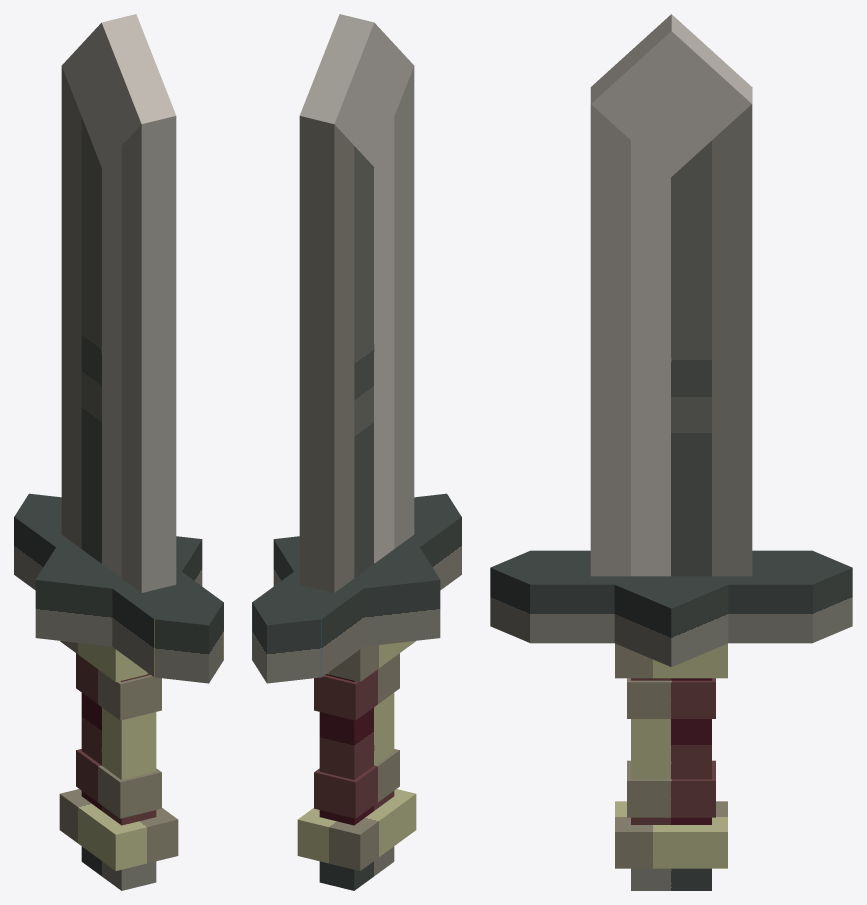
File: IronSword.glb
3 renders of one model, left to right at view 1: azimuth 30°, elevation 25°; view 2: azimuth 150°, elevation 25°; view 3: azimuth 270°, elevation 25°, orthographic.
Visible parts, largest first — view 1: cube (×14); view 2: cube (×14); view 3: cube (×14).
Boxes of the visible parts, bbox=[...] form: cube (×14): bbox=[14, 14, 223, 890]; cube (×14): bbox=[252, 14, 461, 890]; cube (×14): bbox=[490, 14, 852, 890].
Bounding box in the file's own units: 0.3005 × 1.47 × 0.5612.
Materials: 1 (1 with a texture image).
